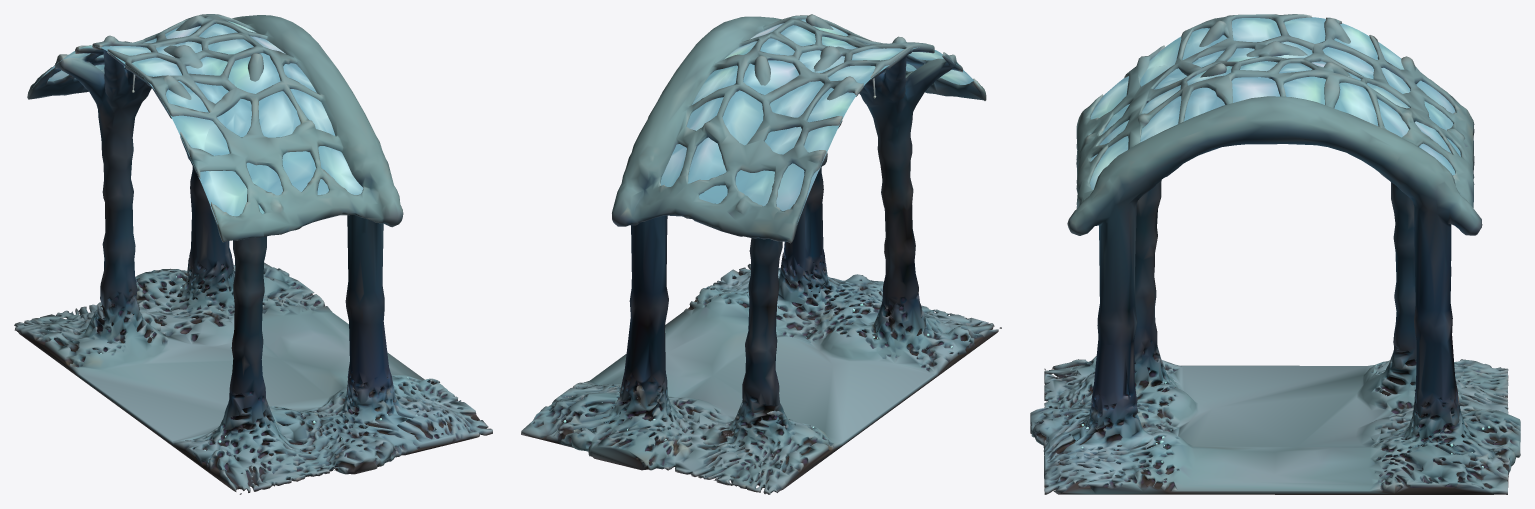
Rendered from gecit_son.glb.
3 renders of one model, left to right at view 1: azimuth 30°, elevation 25°; view 2: azimuth 150°, elevation 25°; view 3: azimuth 270°, elevation 25°, orthographic.
Visible parts, largest first — view 1: gecit_son_LOD0; view 2: gecit_son_LOD0; view 3: gecit_son_LOD0.
Boxes of the visible parts, left/top/right/bottom form: gecit_son_LOD0: left=14, top=14, right=492, bottom=494; gecit_son_LOD0: left=521, top=14, right=1001, bottom=494; gecit_son_LOD0: left=1030, top=14, right=1520, bottom=494.
Size of what is drawn, in the model's own units: 8.71 by 11.52 by 14.31.
